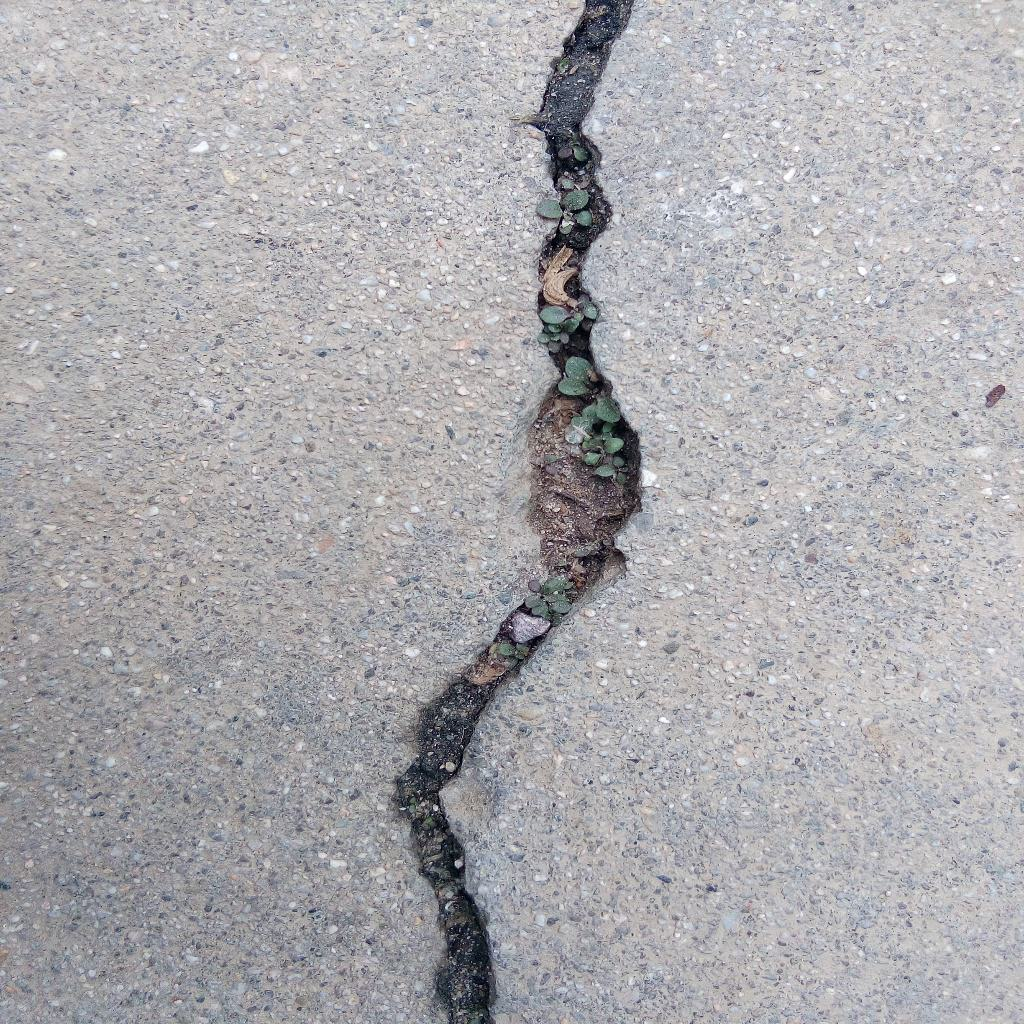Crack: (391, 1, 645, 1024)
